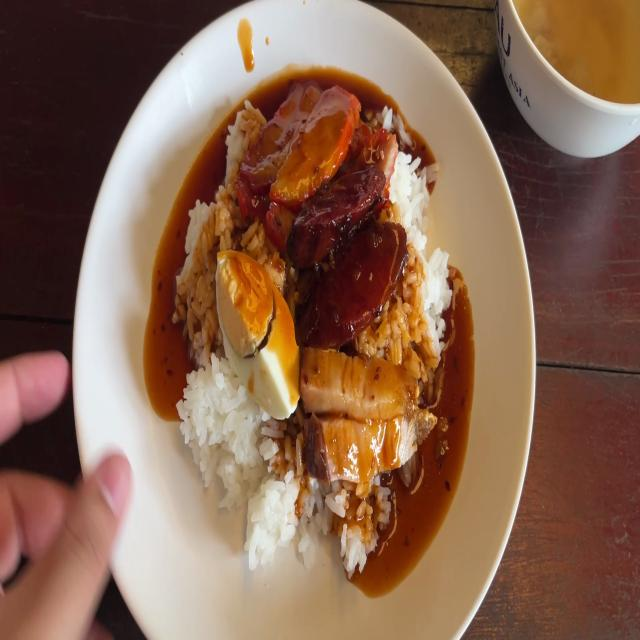01boiled_egg: (224, 253, 302, 420)
01chainese_sausage: (307, 164, 394, 344)
01crispy_pork: (308, 356, 440, 466)
01red_pork: (243, 88, 357, 223)
01red_pork_and_crispy_pork: (172, 82, 454, 567)
01rice: (174, 360, 264, 490), (181, 177, 223, 366), (240, 440, 309, 552), (412, 250, 458, 356), (396, 149, 422, 224), (222, 100, 250, 166)
